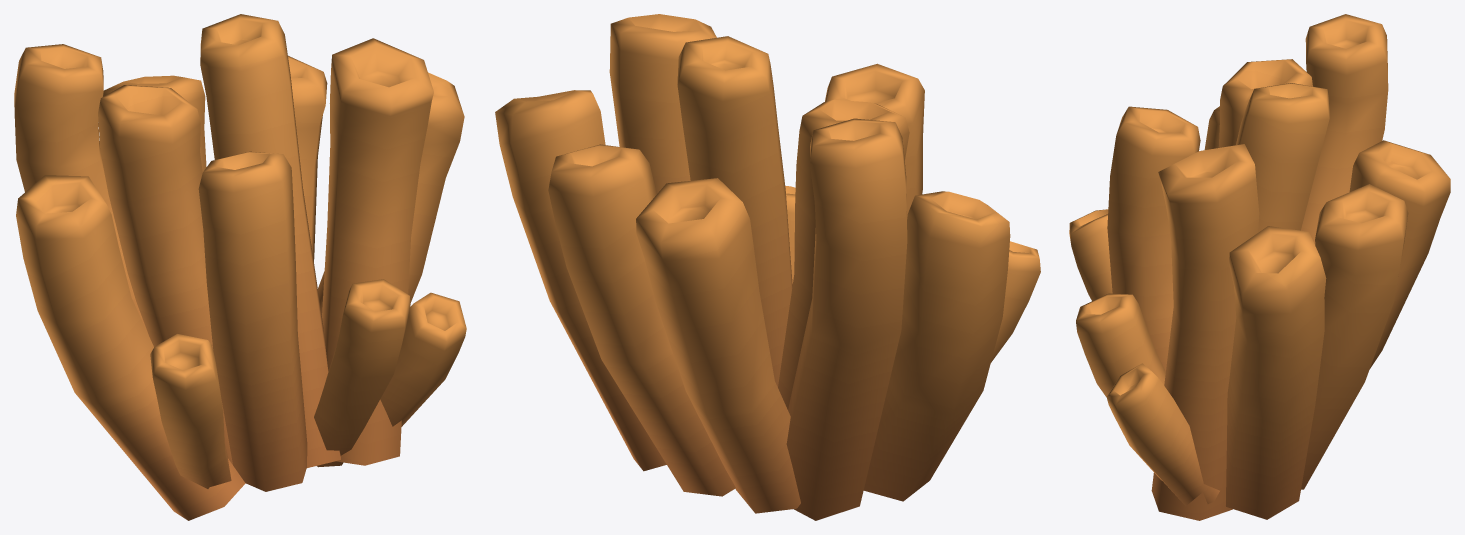
File: CoralBB.fbx
3 views of the same model, side by side, from view 1: azimuth 30°, elevation 25°; view 2: azimuth 150°, elevation 25°; view 3: azimuth 270°, elevation 25° (orthographic). The views are drawn at different scales.
Parts seen in each view (by area): view 1: CoralBB; view 2: CoralBB; view 3: CoralBB.
Part boxes in pixels (<box>): CoralBB: <box>14,14,466,520</box>; CoralBB: <box>495,14,1040,520</box>; CoralBB: <box>1069,14,1450,520</box>.
Bounding box in the file's own units: 37.71 × 33.96 × 29.32.
Materials: 1 (1 with a texture image).
